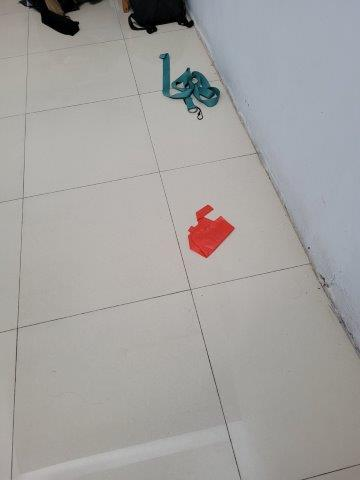plastik: (183, 205, 235, 260)
